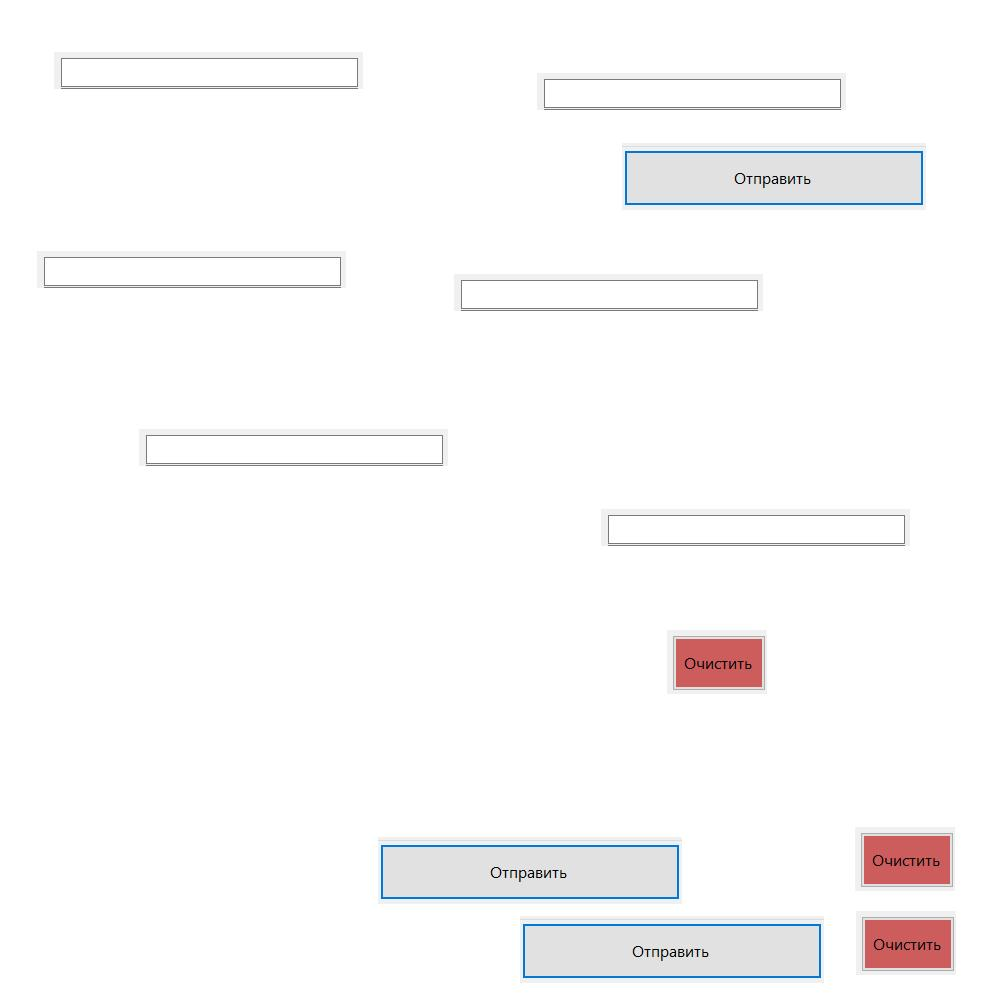Button: (622, 143, 926, 210), (520, 916, 824, 983), (378, 837, 682, 904), (667, 630, 767, 694), (855, 827, 955, 891), (856, 911, 956, 975)
EditText-: (537, 73, 846, 110), (454, 274, 763, 311), (601, 509, 910, 546), (139, 429, 448, 466), (54, 52, 363, 89), (37, 251, 346, 288)
